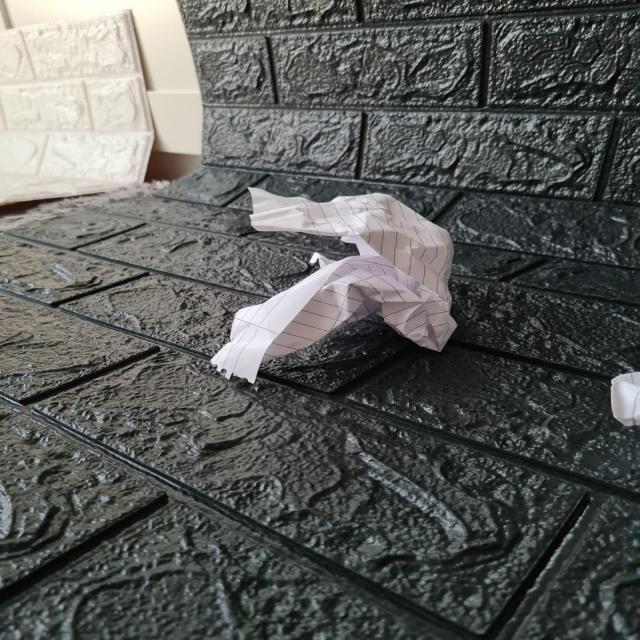trash: (250, 184, 460, 373)
